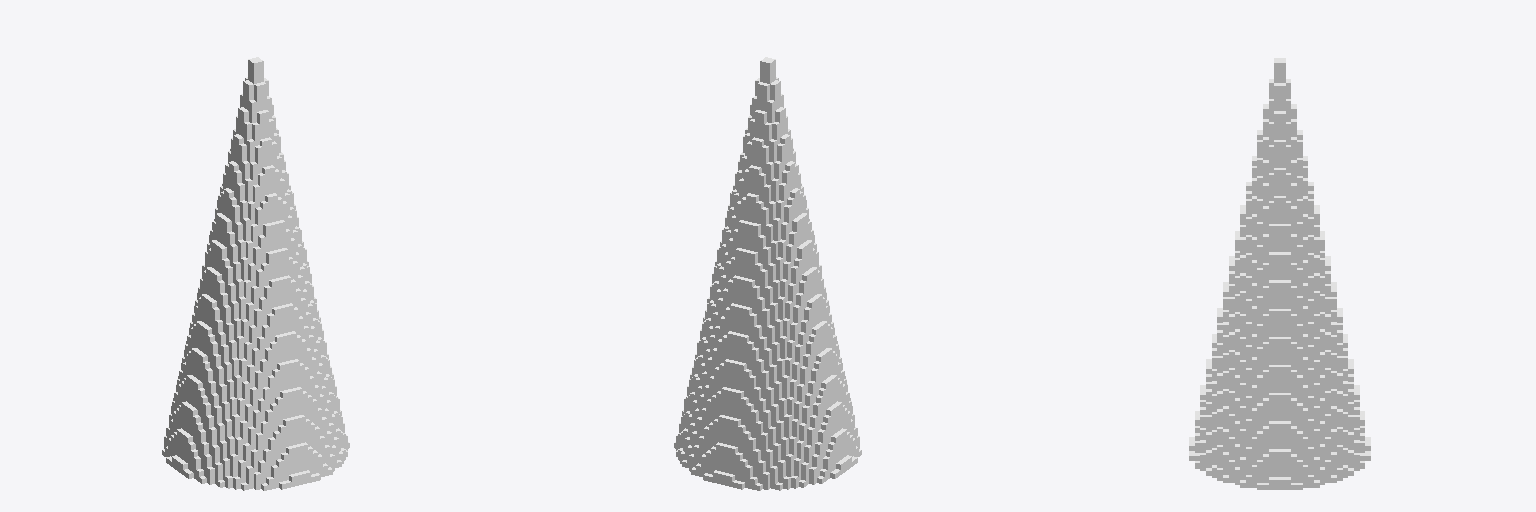
Rendered from hitboxcone.obj.
The picture shows the model from 3 angles: view 1: azimuth 30°, elevation 25°; view 2: azimuth 150°, elevation 25°; view 3: azimuth 270°, elevation 25°; orthographic projection.
Bounding box in the file's own units: 32 × 76 × 32.